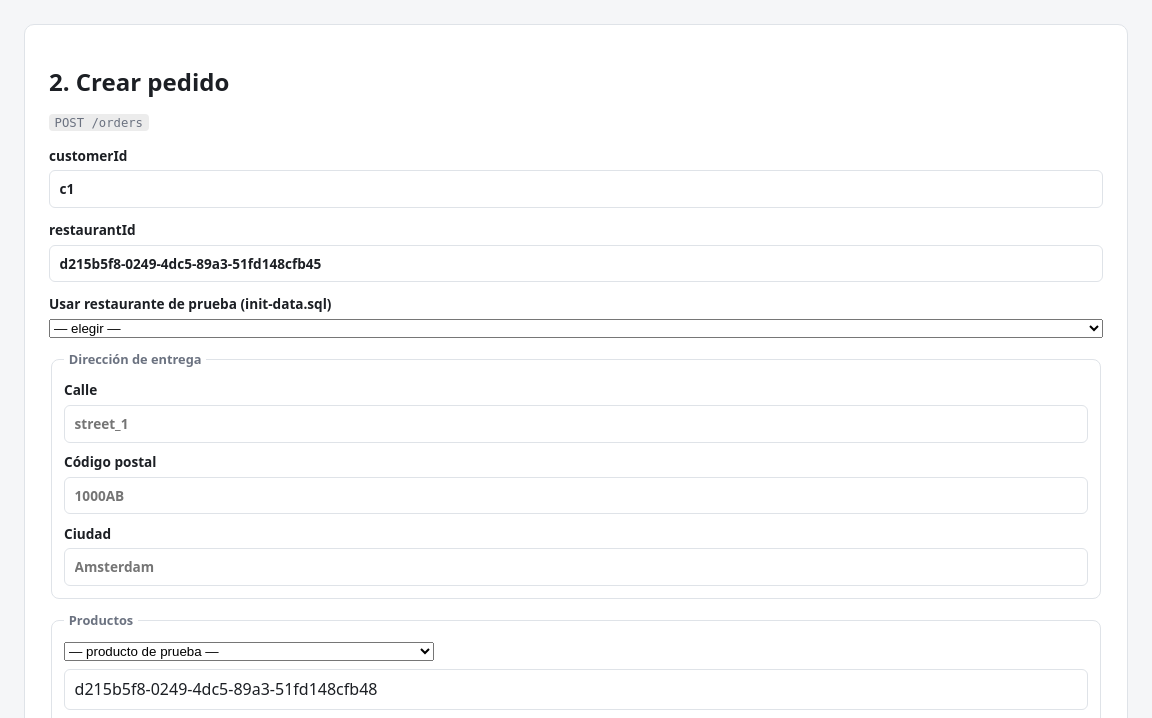
Test: CreateOrderForm › picking a seed restaurant from the dropdown fills in its restaurantId
Select "restaurant_2 (inactivo)" in the dropdown labelled "Usar restaurante de prueba (init-data.sql)" at (576, 328), box [49, 319, 1103, 338]
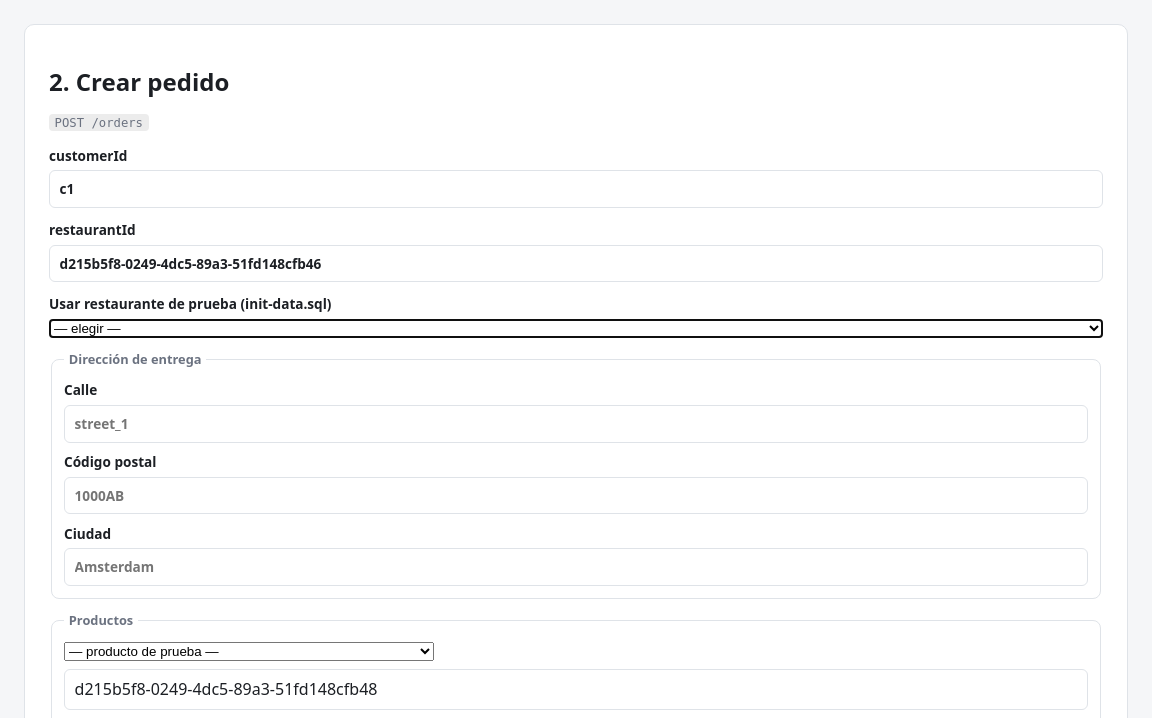
Expected: the field labelled "restaurantId" holds "d215b5f8-0249-4dc5-89a3-51fd148cfb46", [49, 245, 1103, 282]
